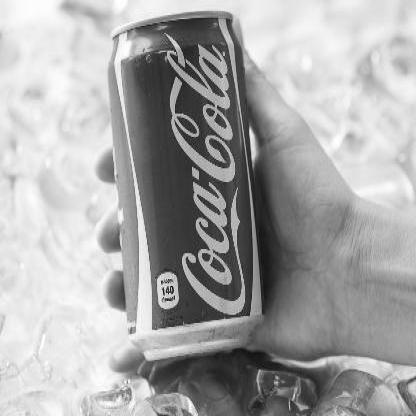alumunium_can: (108, 9, 268, 360)
